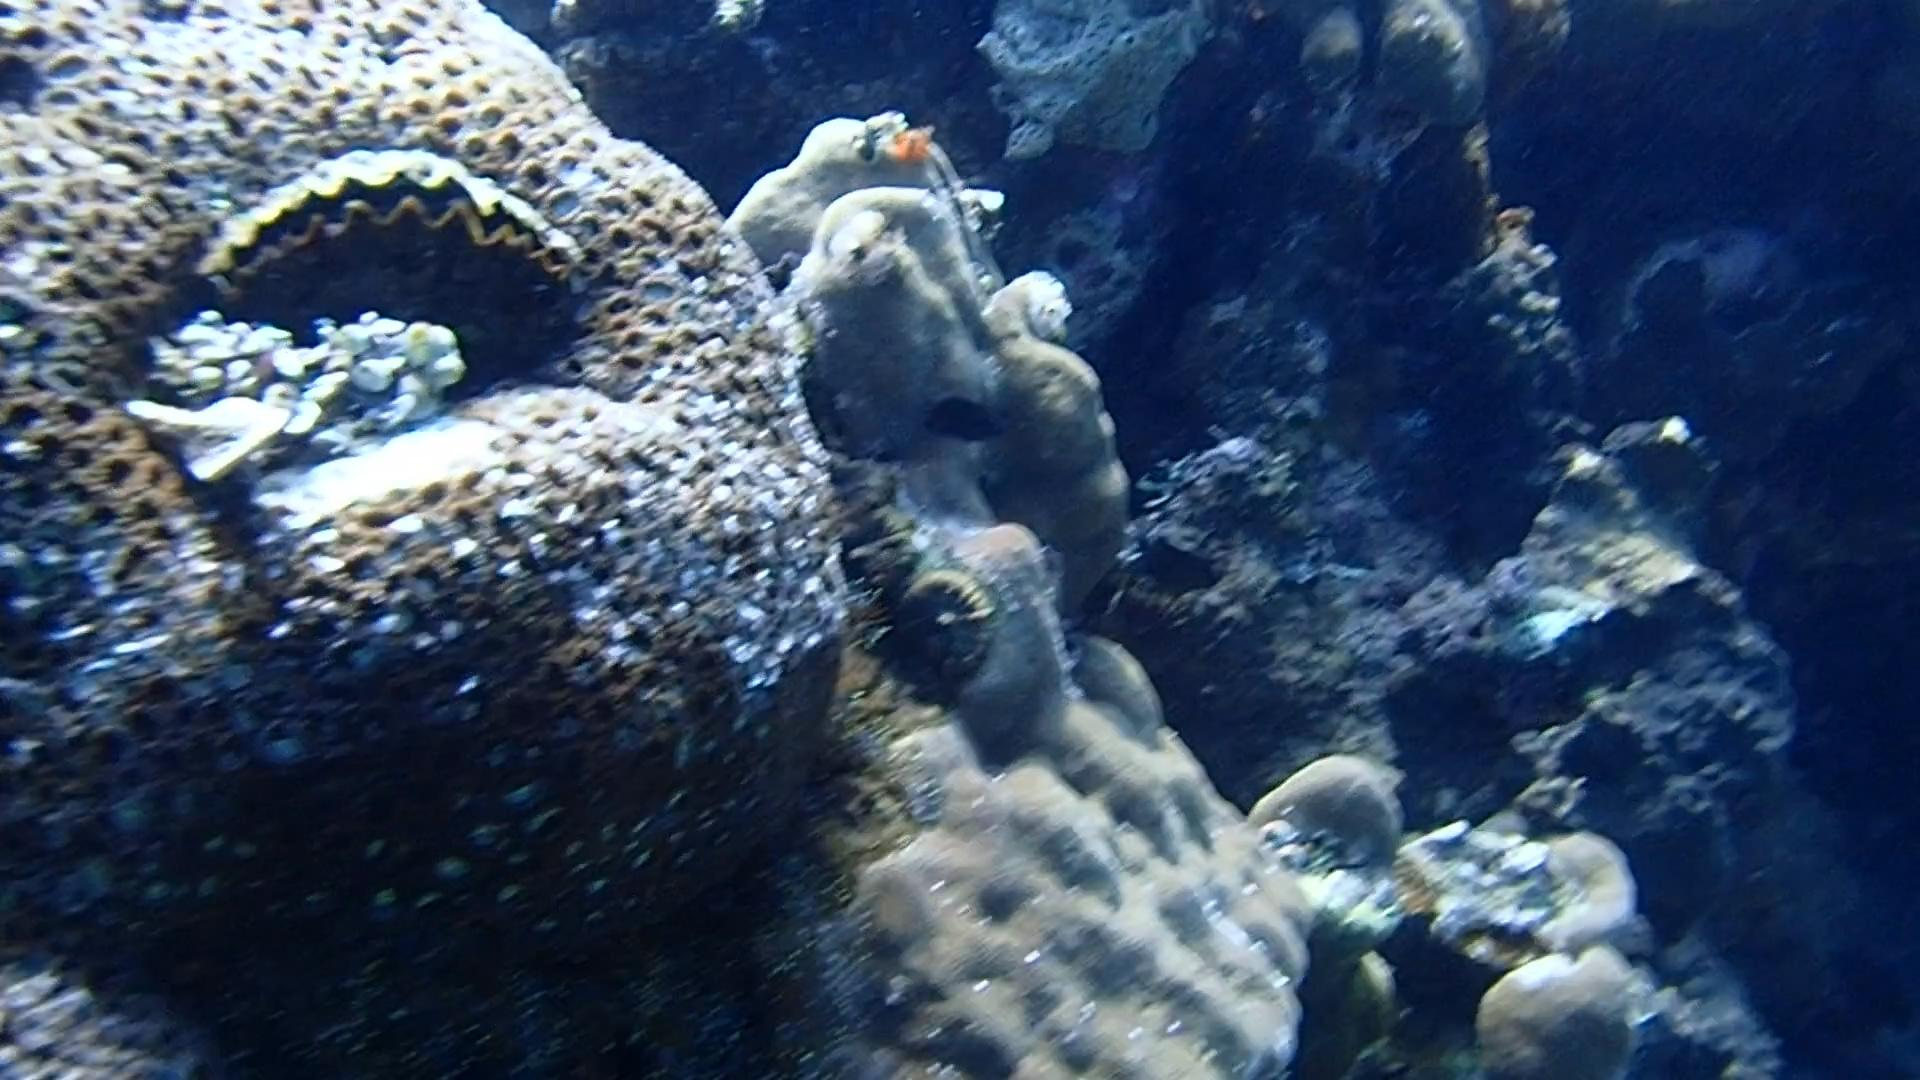Dark Fish: (1126, 520, 1232, 604), (909, 378, 1010, 451)
